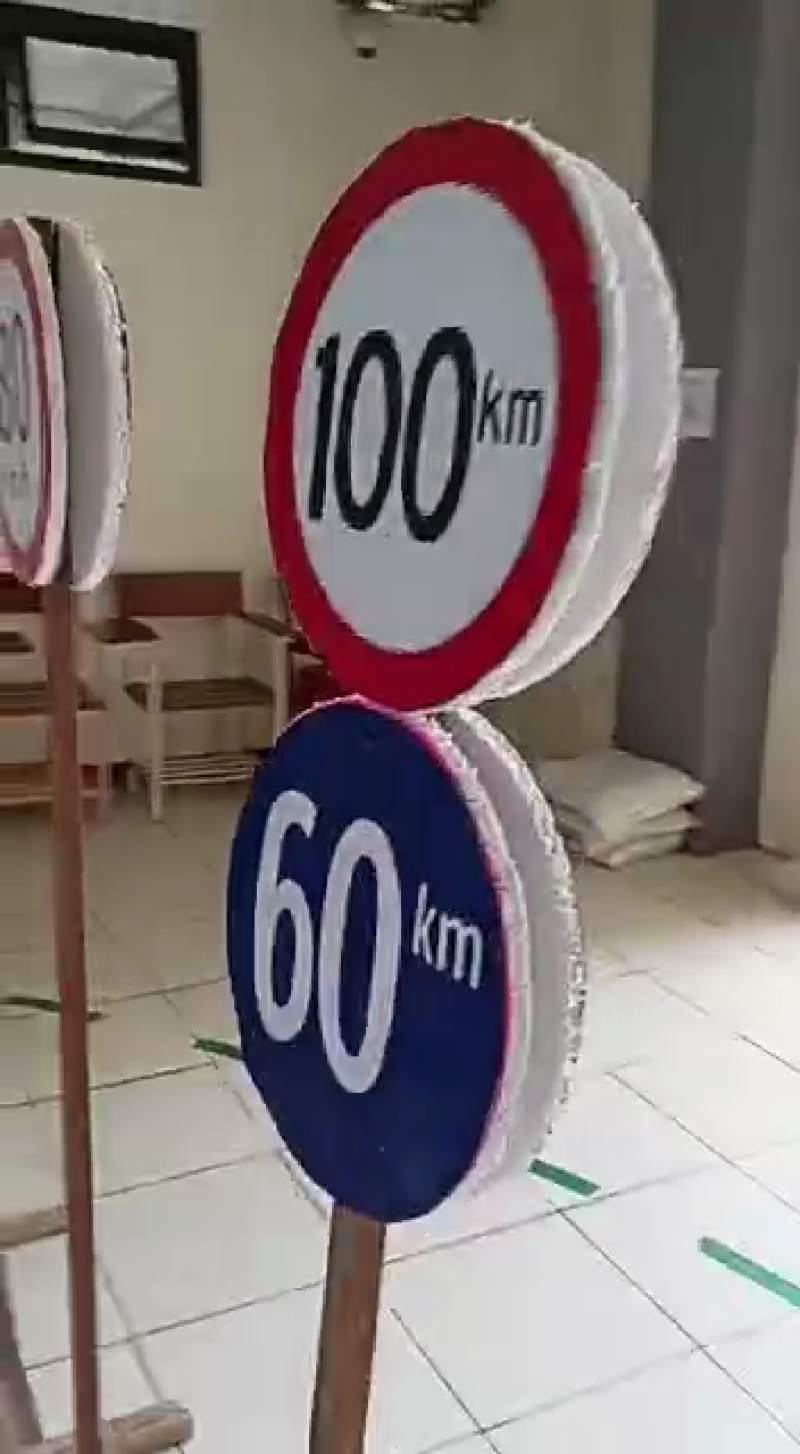batas maksimal 100kmperjam minimal 60kmperjam: (215, 103, 624, 1238)
